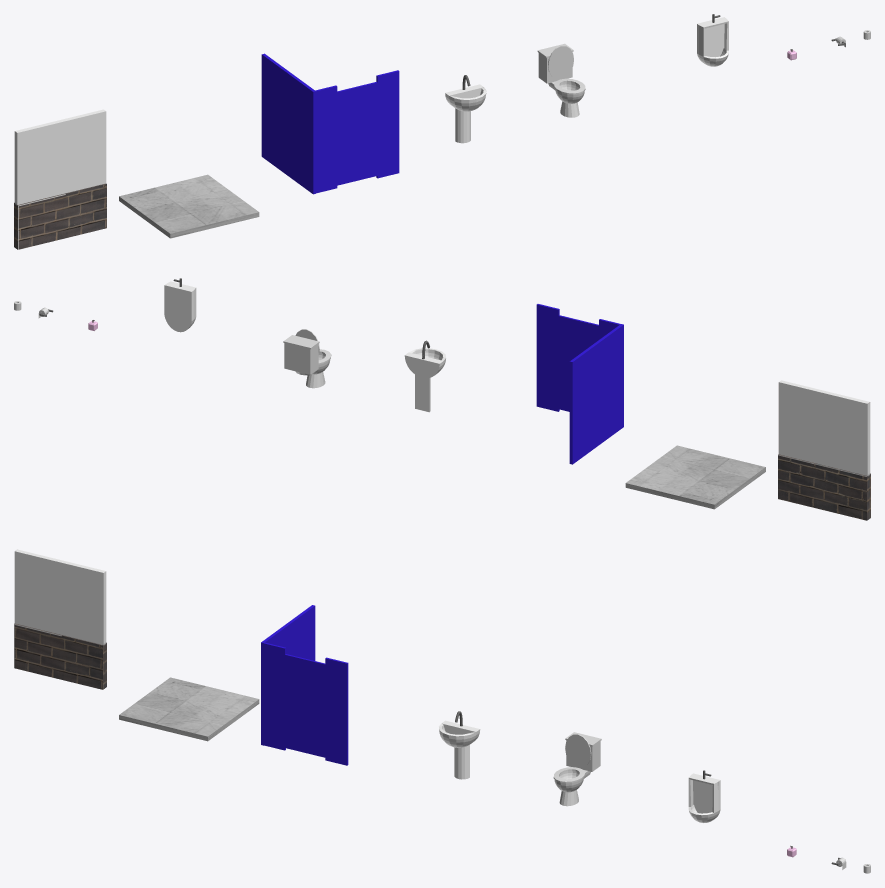
The model's file is Bathroom.glb.
3 views of the same model, one above another, from view 1: azimuth 30°, elevation 25°; view 2: azimuth 150°, elevation 25°; view 3: azimuth 330°, elevation 25° (orthographic).
Visible parts, largest first — view 1: Bathroom_Wall, Stall_Wall, Bathroom_Floor, Stall_Front, Stall_Door, Toilet, Urinal, Sink; view 2: Bathroom_Wall, Stall_Wall, Bathroom_Floor, Stall_Front, Stall_Door, Toilet, Sink, Urinal; view 3: Bathroom_Wall, Bathroom_Floor, Stall_Front, Stall_Door, Toilet, Stall_Wall, Urinal, Sink.
Part boxes in pixels (<box>): Bathroom_Wall: <box>14,109,106,249</box>; Stall_Wall: <box>261,53,315,194</box>; Bathroom_Floor: <box>119,174,259,238</box>; Stall_Front: <box>315,70,399,193</box>; Stall_Door: <box>337,82,377,185</box>; Toilet: <box>537,43,585,117</box>; Urinal: <box>697,14,728,66</box>; Sink: <box>445,75,486,143</box>; Bathroom_Wall: <box>778,380,870,520</box>; Stall_Wall: <box>569,324,623,464</box>; Bathroom_Floor: <box>625,445,765,509</box>; Stall_Front: <box>536,304,620,411</box>; Stall_Door: <box>558,315,598,411</box>; Toilet: <box>283,329,331,388</box>; Sink: <box>404,340,445,412</box>; Urinal: <box>164,278,196,332</box>; Bathroom_Wall: <box>14,549,106,689</box>; Bathroom_Floor: <box>119,677,259,741</box>; Stall_Front: <box>263,642,348,765</box>; Stall_Door: <box>285,654,325,757</box>; Toilet: <box>553,732,601,806</box>; Stall_Wall: <box>261,605,315,745</box>; Urinal: <box>688,770,720,822</box>; Sink: <box>439,711,480,779</box>.
Bounding box in the file's own units: 19.2 × 2.56 × 2.02.
Materials: 17 (5 with a texture image).
